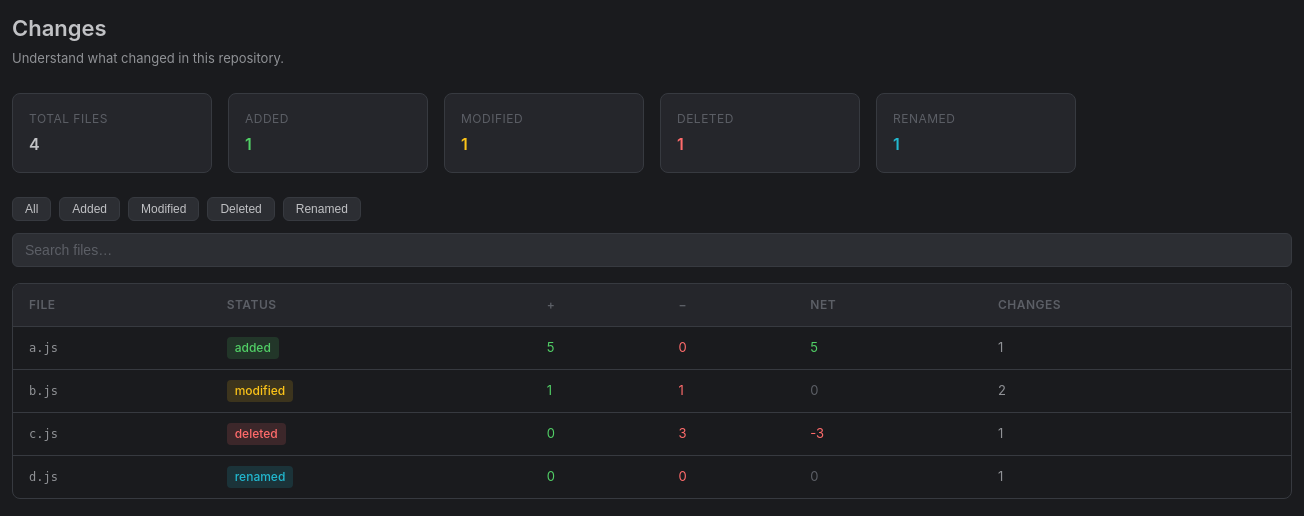
it: ChangesPage › filters rows by status using the backend status field
Click the button "Added": (90, 208) [59, 196, 120, 220]
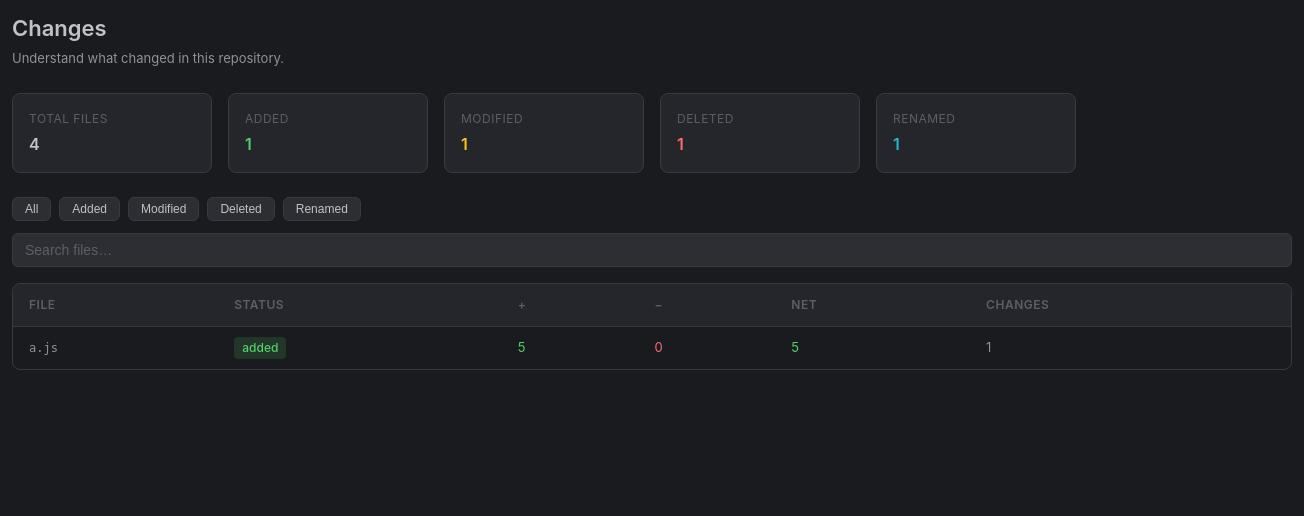
expect the text "b.js" is gone: met
expect the text "c.js" is gone: met
expect the text "d.js" is gone: met
